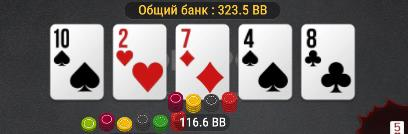10s: (51, 24, 102, 98)
2h: (114, 25, 166, 99)
4s: (240, 26, 292, 99)
7d: (177, 26, 229, 96)
8c: (303, 26, 353, 98)
